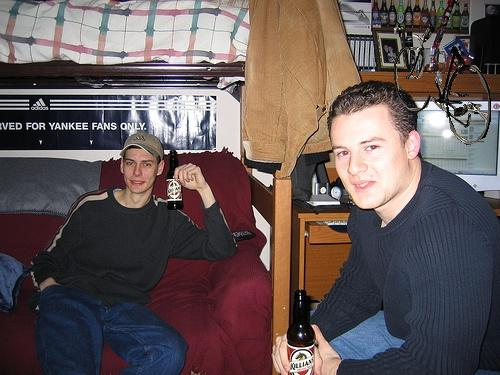tampered: (395, 24, 491, 145)
